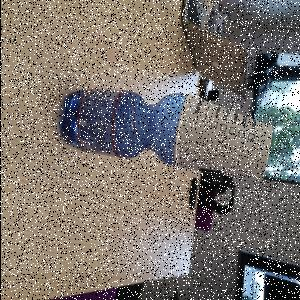Cup: (174, 93, 274, 183)
Plastic-bottle: (59, 90, 174, 168)
